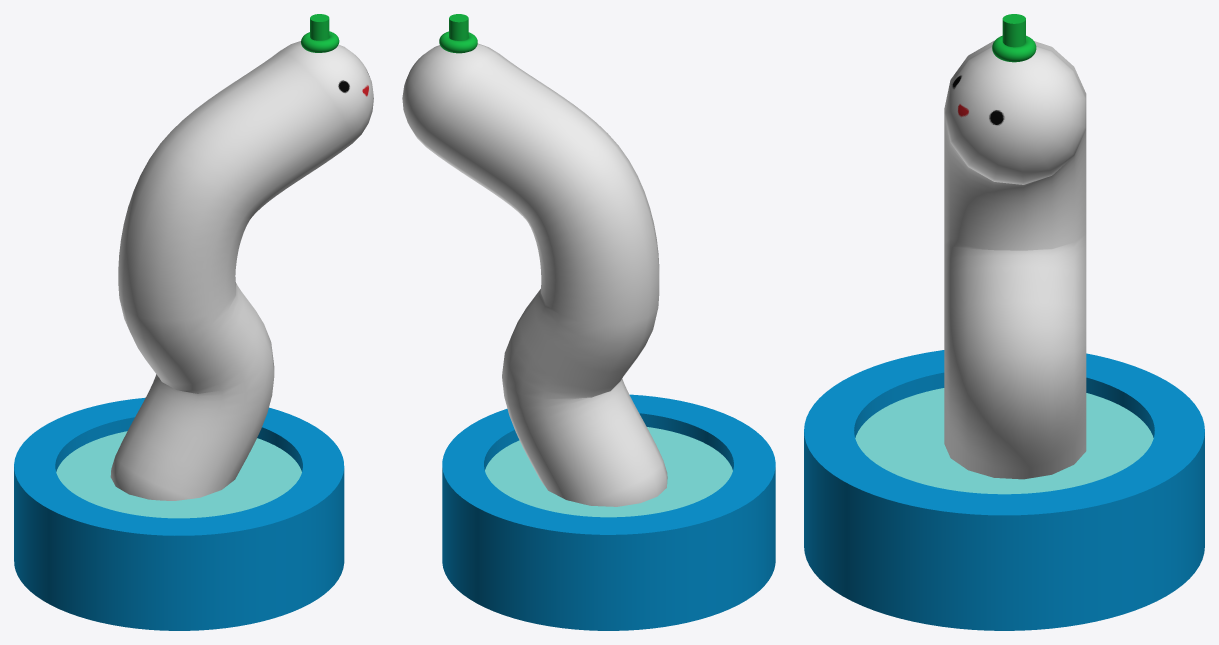
The model's file is 毛毛蔥.glb.
3 renders of one model, left to right at view 1: azimuth 30°, elevation 25°; view 2: azimuth 150°, elevation 25°; view 3: azimuth 270°, elevation 25°, orthographic. The views are drawn at different scales.
Parts seen in each view (by area): view 1: mesh_id53, mesh_id62, mesh_id72, mesh_id57, mesh_id55; view 2: mesh_id53, mesh_id62, mesh_id72, mesh_id57; view 3: mesh_id62, mesh_id53, mesh_id72, mesh_id57, mesh_id55.
Boxes of the visible parts, left/top/right/bottom form: mesh_id53: left=110, top=41, right=373, bottom=500; mesh_id62: left=14, top=397, right=344, bottom=630; mesh_id72: left=56, top=431, right=301, bottom=518; mesh_id57: left=301, top=31, right=339, bottom=52; mesh_id55: left=310, top=14, right=329, bottom=40; mesh_id53: left=402, top=43, right=667, bottom=506; mesh_id62: left=442, top=394, right=775, bottom=630; mesh_id72: left=485, top=427, right=732, bottom=517; mesh_id57: left=439, top=31, right=477, bottom=53; mesh_id62: left=804, top=350, right=1204, bottom=630; mesh_id53: left=944, top=40, right=1086, bottom=479; mesh_id72: left=855, top=388, right=1153, bottom=494; mesh_id57: left=992, top=35, right=1036, bottom=62; mesh_id55: left=1002, top=14, right=1025, bottom=47.
Bounding box in the file's own units: 0.3136 × 0.4518 × 0.2678.
5 materials, 5 textured.
